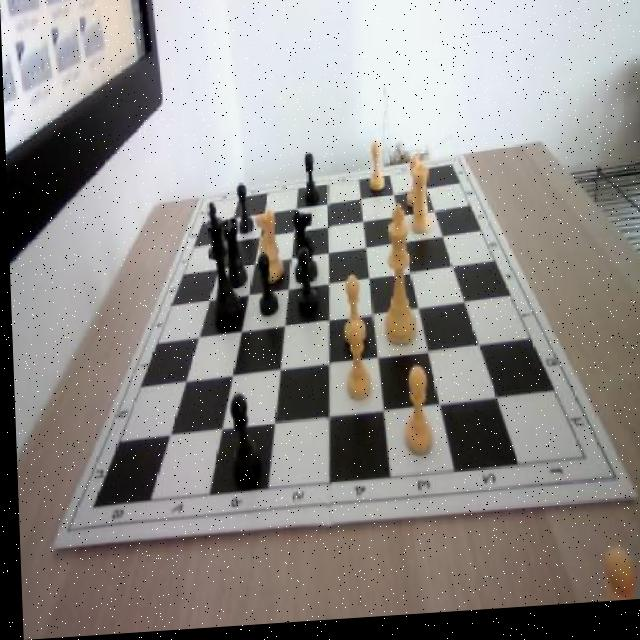black-bishop: (202, 204, 238, 328)
black-king: (291, 210, 315, 287)
black-knight: (224, 395, 256, 486), (292, 250, 318, 321), (253, 254, 276, 322), (300, 154, 317, 209), (235, 186, 252, 239)
black-queen: (216, 216, 244, 293)
white-bishop: (378, 206, 415, 355)
white-king: (252, 212, 281, 286)
white-knight: (398, 371, 433, 462), (337, 321, 371, 408), (339, 280, 365, 349), (365, 148, 385, 197), (403, 161, 422, 212)
white-queen: (406, 169, 431, 240)
